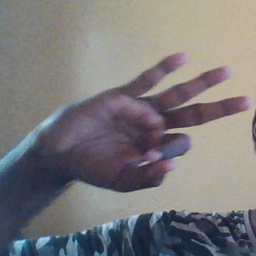K: (46, 53, 252, 197)
